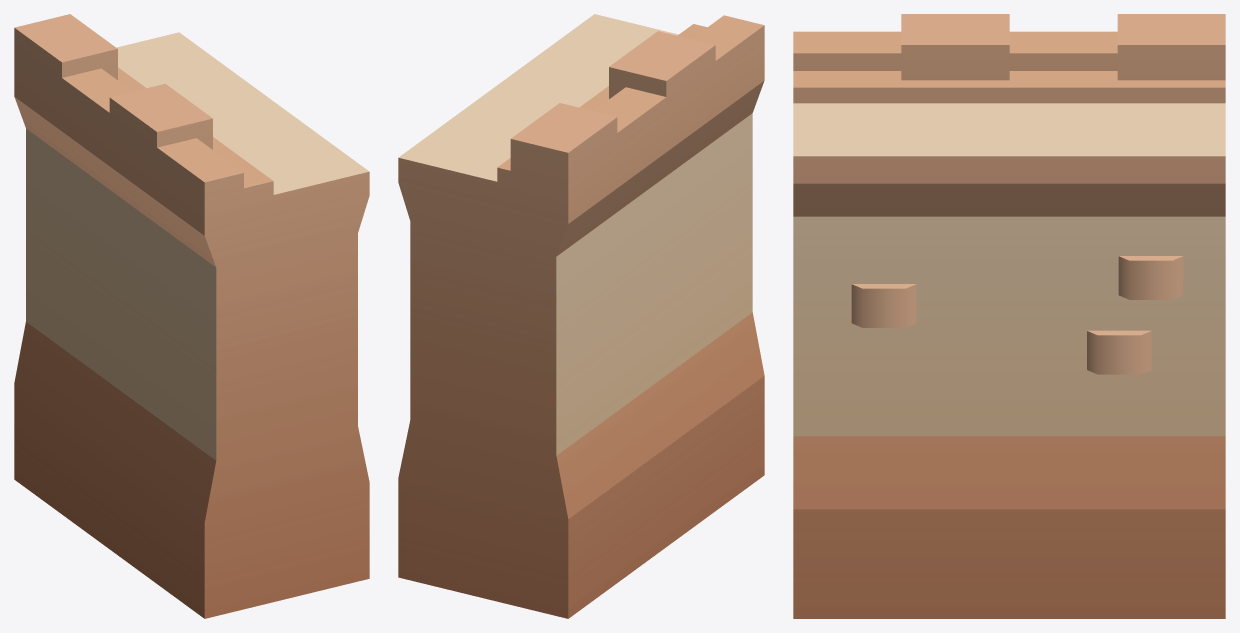
File: wall-narrow.obj
3 views of the same model, side by side, from view 1: azimuth 30°, elevation 25°; view 2: azimuth 150°, elevation 25°; view 3: azimuth 270°, elevation 25° (orthographic). The views are drawn at different scales.
Visible parts, largest first — view 1: wall-narrow; view 2: wall-narrow; view 3: wall-narrow.
Boxes of the visible parts, <box> form: wall-narrow: <box>14,14,369,618</box>; wall-narrow: <box>398,14,764,618</box>; wall-narrow: <box>793,14,1225,618</box>.
Bounding box in the file's own units: 0.5 × 1.31 × 1.
Materials: 1 (1 with a texture image).
